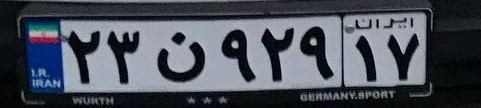character: (147, 23, 214, 89), (296, 19, 342, 87), (214, 22, 258, 90), (104, 23, 145, 88), (64, 24, 104, 90), (257, 23, 298, 85), (383, 29, 424, 85), (348, 32, 383, 84)
